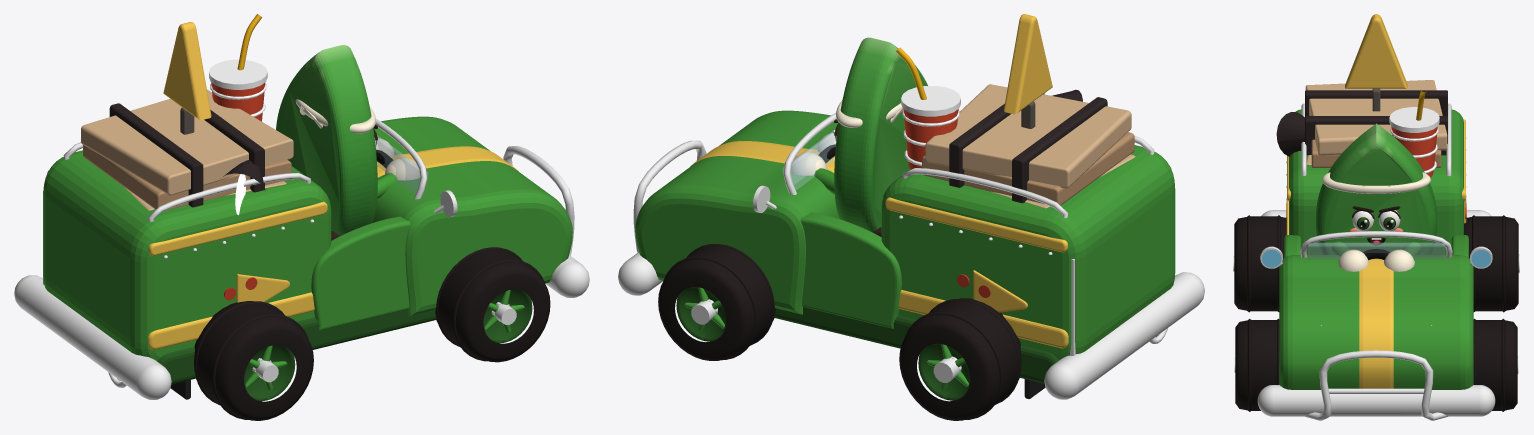
File: racer1.glb
The picture shows the model from 3 angles, left to right: view 1: azimuth 30°, elevation 25°; view 2: azimuth 150°, elevation 25°; view 3: azimuth 270°, elevation 25°; orthographic projection. The views are drawn at different scales.
Parts seen in each view (by area): view 1: body, wheel_RR, wheel_FR; view 2: body, wheel_RL, wheel_FL; view 3: body, wheel_RL, wheel_RR, wheel_FL, wheel_FR.
Boxes of the visible parts, <box> form: body: <box>14,14,589,399</box>; wheel_RR: <box>194,301,313,420</box>; wheel_FR: <box>435,247,550,362</box>; body: <box>618,14,1204,399</box>; wheel_RL: <box>899,298,1021,420</box>; wheel_FL: <box>658,244,775,360</box>; body: <box>1257,14,1495,420</box>; wheel_RL: <box>1464,215,1519,312</box>; wheel_RR: <box>1233,215,1286,312</box>; wheel_FL: <box>1473,318,1518,411</box>; wheel_FR: <box>1234,318,1279,411</box>.
Bounding box in the file's own units: 12.13 × 8.46 × 7.51.
